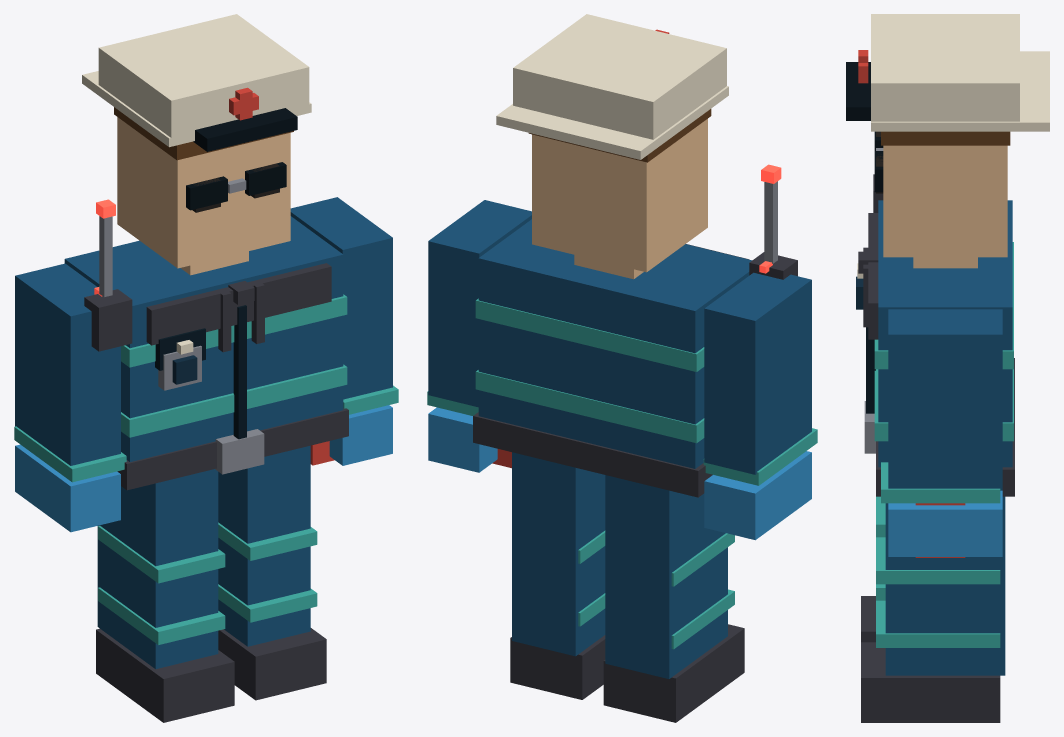
The model's file is archetypes__paramedic.glb.
3 renders of one model, left to right at view 1: azimuth 30°, elevation 25°; view 2: azimuth 150°, elevation 25°; view 3: azimuth 270°, elevation 25°, orthographic. The views are drawn at different scales.
Parts seen in each view (by area): view 1: archetypes__paramedic, rig_legL, rig_armL, rig_legR, rig_armR; view 2: archetypes__paramedic, rig_legL, rig_armL, rig_legR, rig_armR; view 3: archetypes__paramedic, rig_armR, rig_legR, rig_legL.
Boxes of the visible parts, x1,y1,x2,y2 form: archetypes__paramedic: [64, 14, 348, 490]; rig_legL: [96, 469, 234, 722]; rig_armL: [14, 263, 126, 532]; rig_legR: [218, 445, 326, 700]; rig_armR: [290, 197, 398, 465]; archetypes__paramedic: [473, 14, 797, 497]; rig_legL: [603, 475, 744, 722]; rig_armL: [703, 272, 817, 540]; rig_legR: [510, 452, 605, 699]; rig_armR: [427, 200, 531, 472]; archetypes__paramedic: [846, 14, 1049, 557]; rig_armR: [881, 309, 1002, 556]; rig_legR: [861, 496, 1005, 722]; rig_legL: [861, 496, 885, 642].
Bounding box in the file's own units: 1.56 × 2.81 × 0.82.
